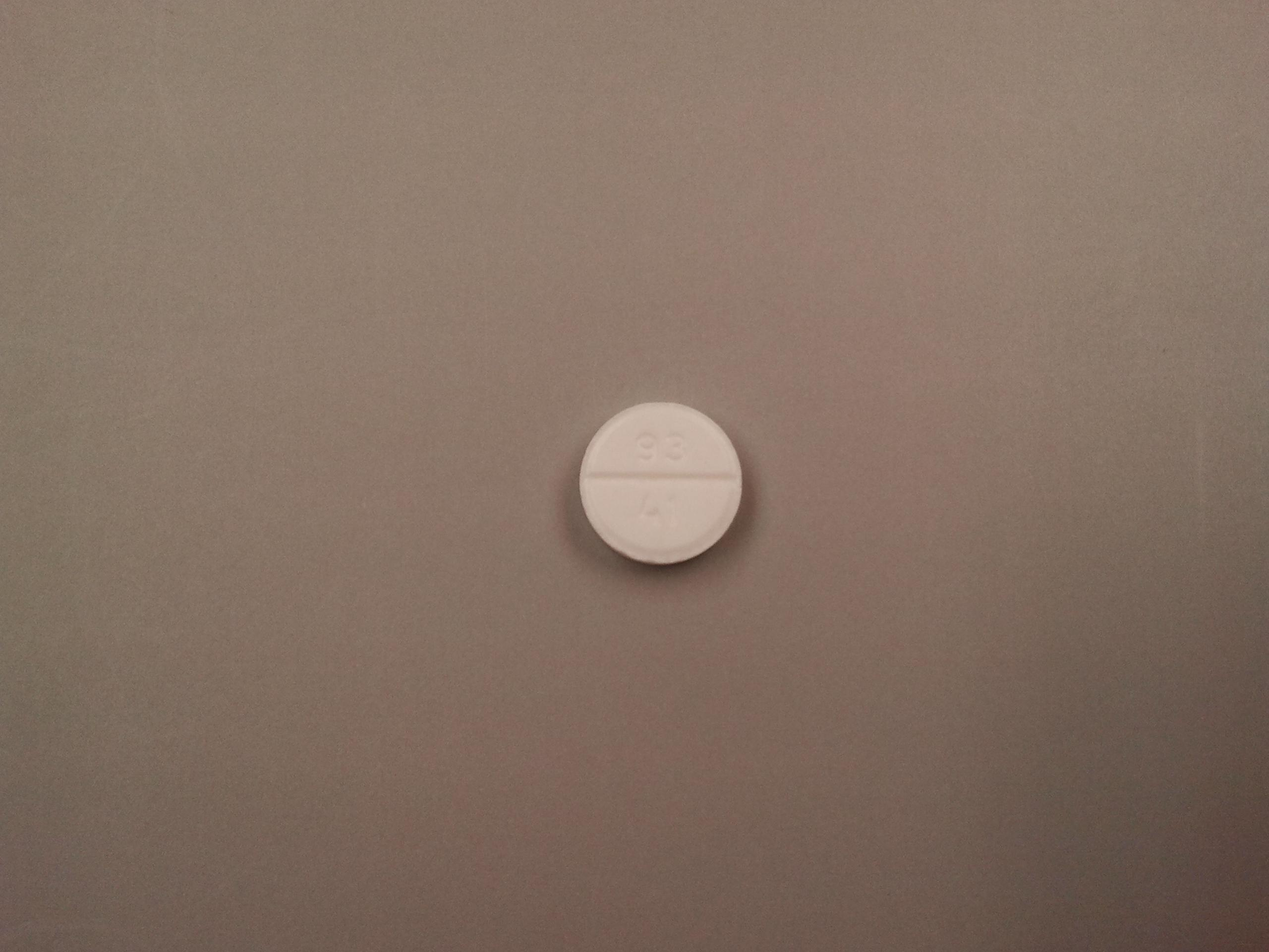Pill: (572, 393, 752, 574)
